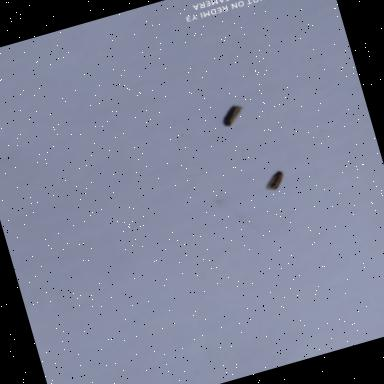pbw: (218, 102, 249, 128), (263, 169, 289, 193)
